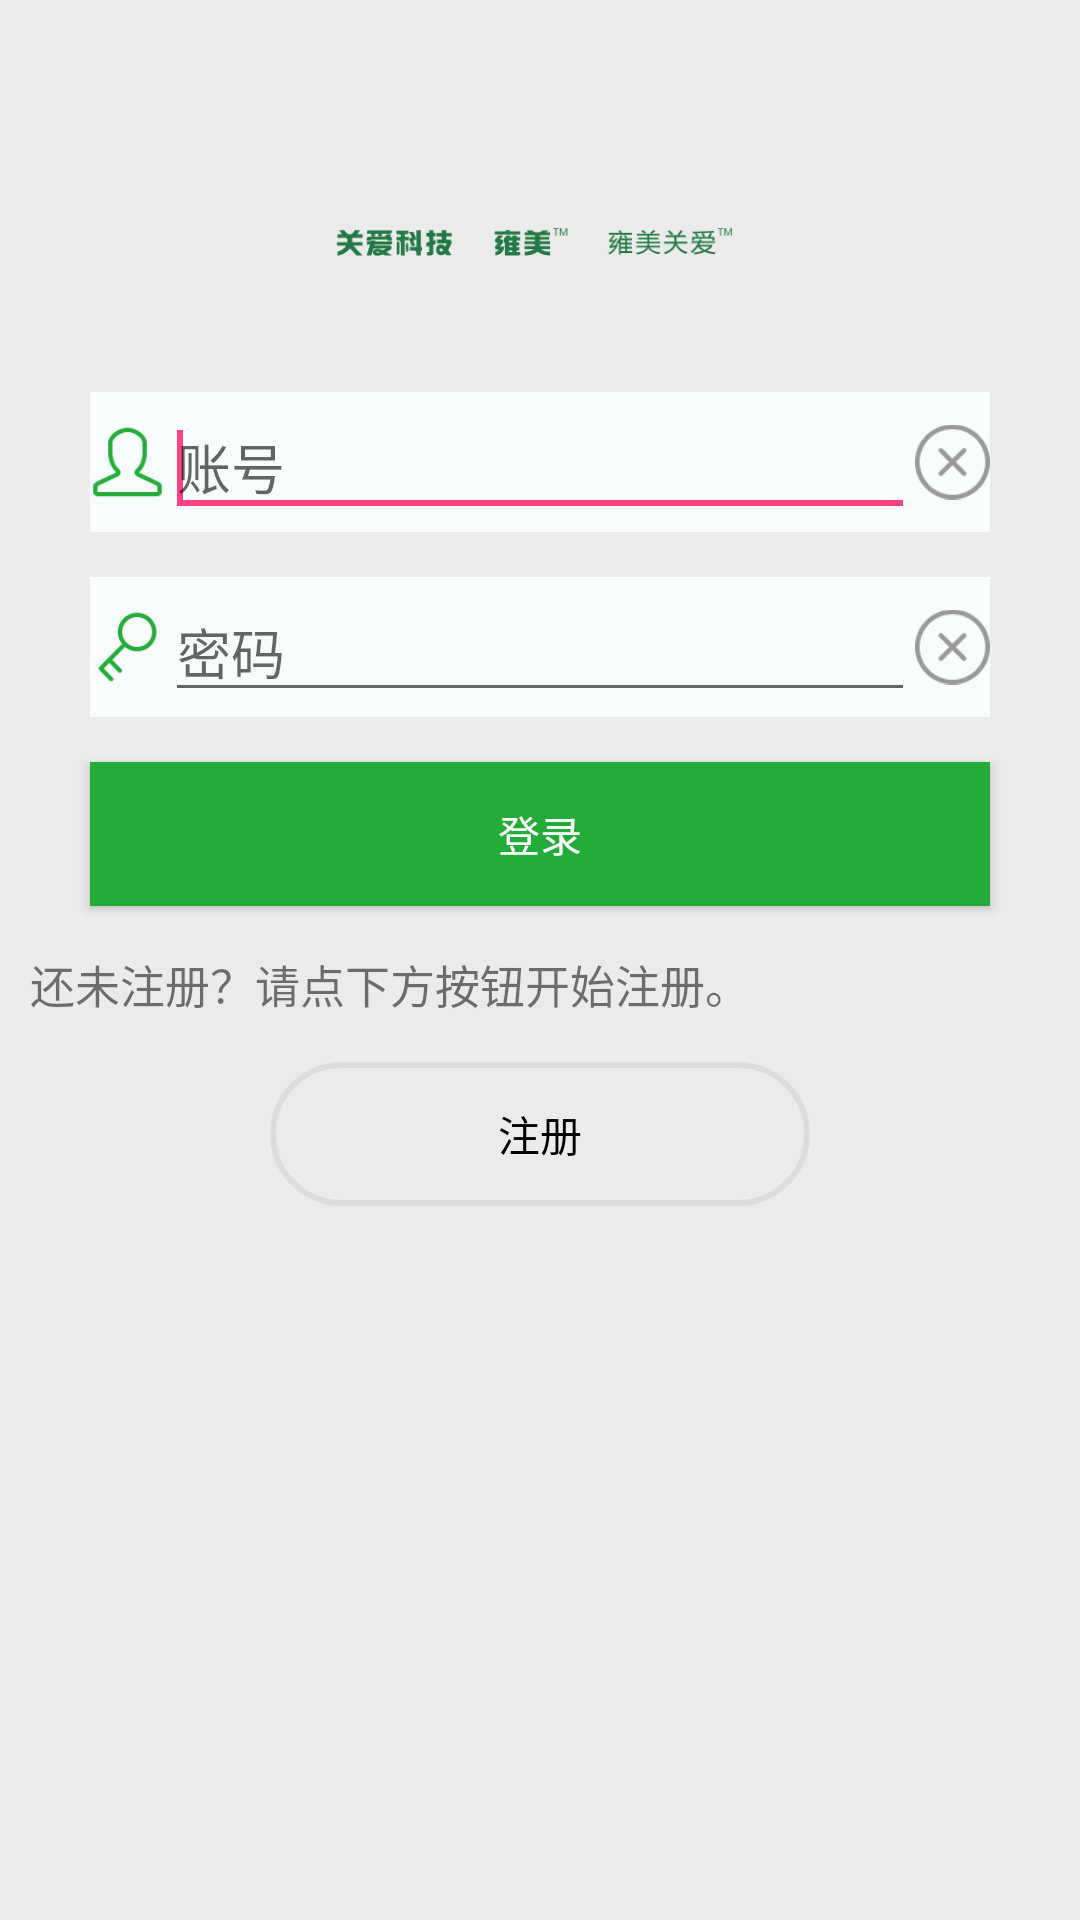

Icons on this 1080px x 1920px Android screen, each with its box as {"left": x1, "top": y1, "right": x2, "bottom": y2}:
重填: {"left": 915, "top": 425, "right": 990, "bottom": 500}, {"left": 915, "top": 610, "right": 990, "bottom": 685}
